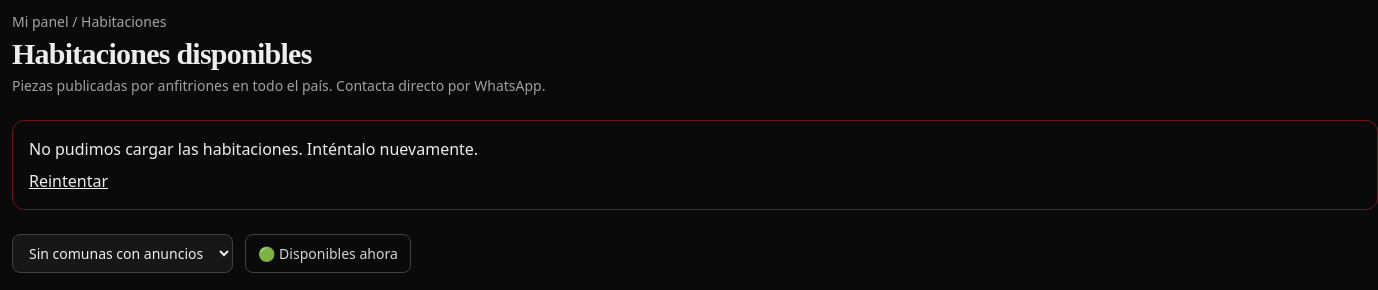
Test case: room browse › shows a retryable failure instead of sending network errors to login
Check: the message shows "No pudimos cargar", box [29,138,478,160]
Click the button "Reintentar" at (68, 181), box [29,169,108,193]
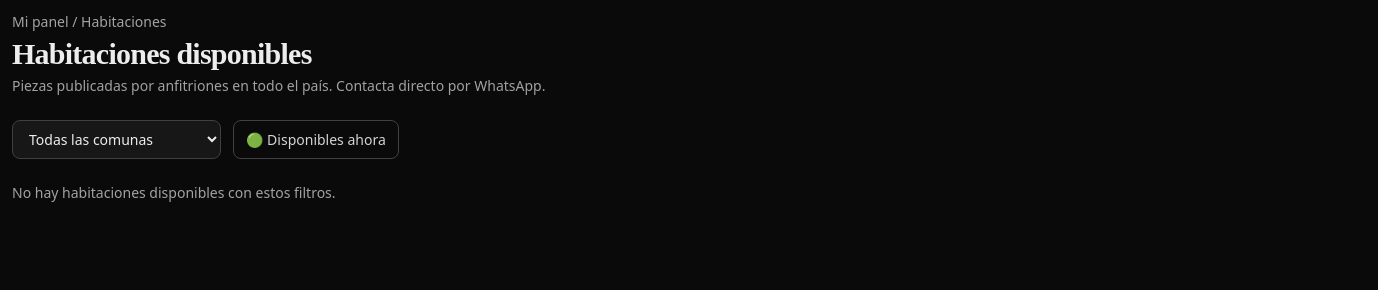
Check: the text "No hay habitaciones disponibles con estos filtros." is shown, box [12,183,336,202]
